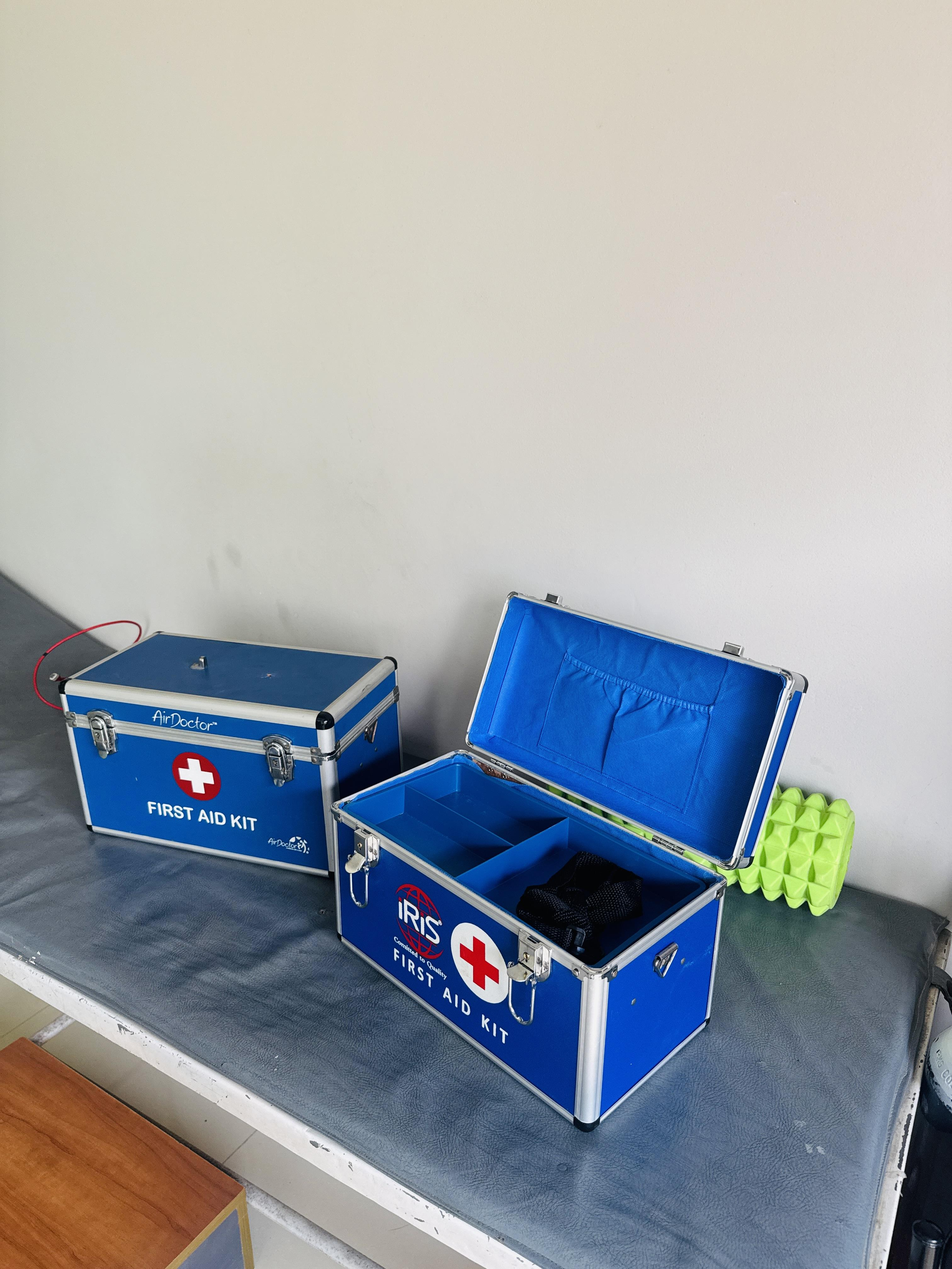FirstAidBox: (35, 571, 817, 1144)
